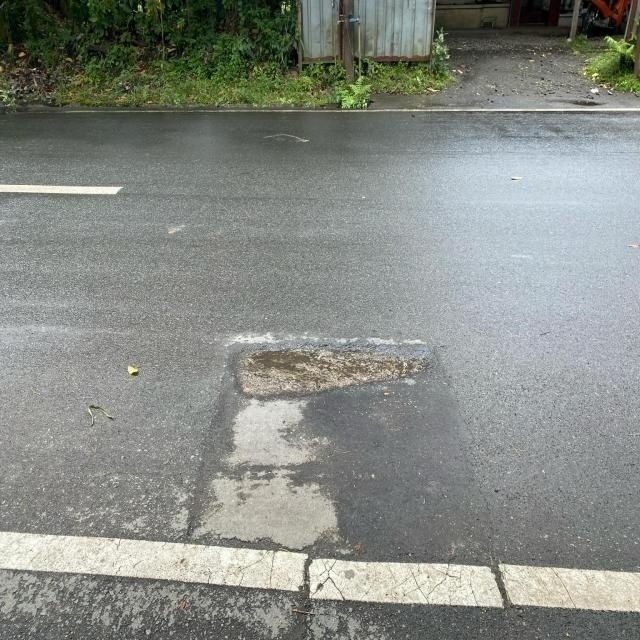pothole: (220, 306, 442, 424)
